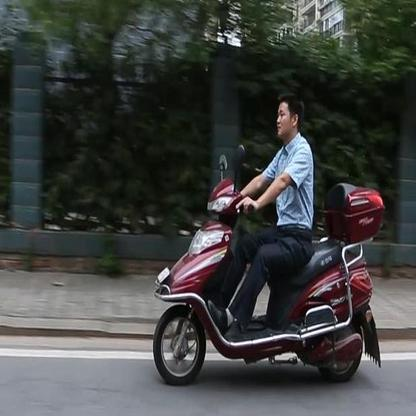target: (150, 92, 385, 388)
